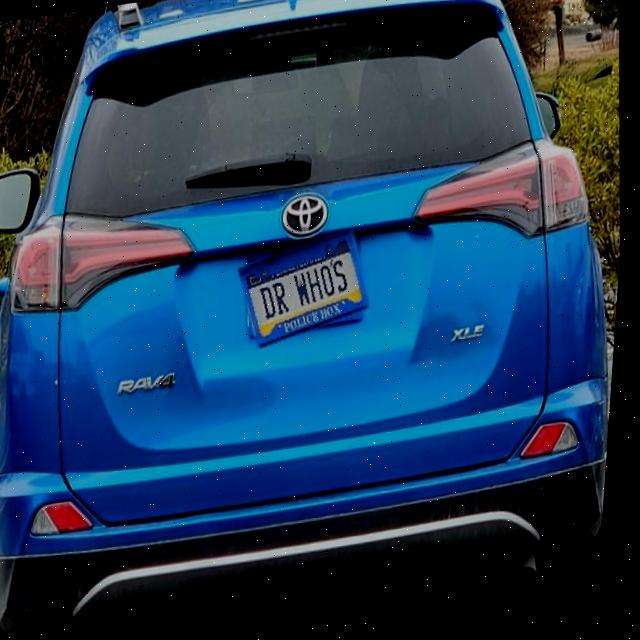LicensePlate: (242, 233, 376, 353)
